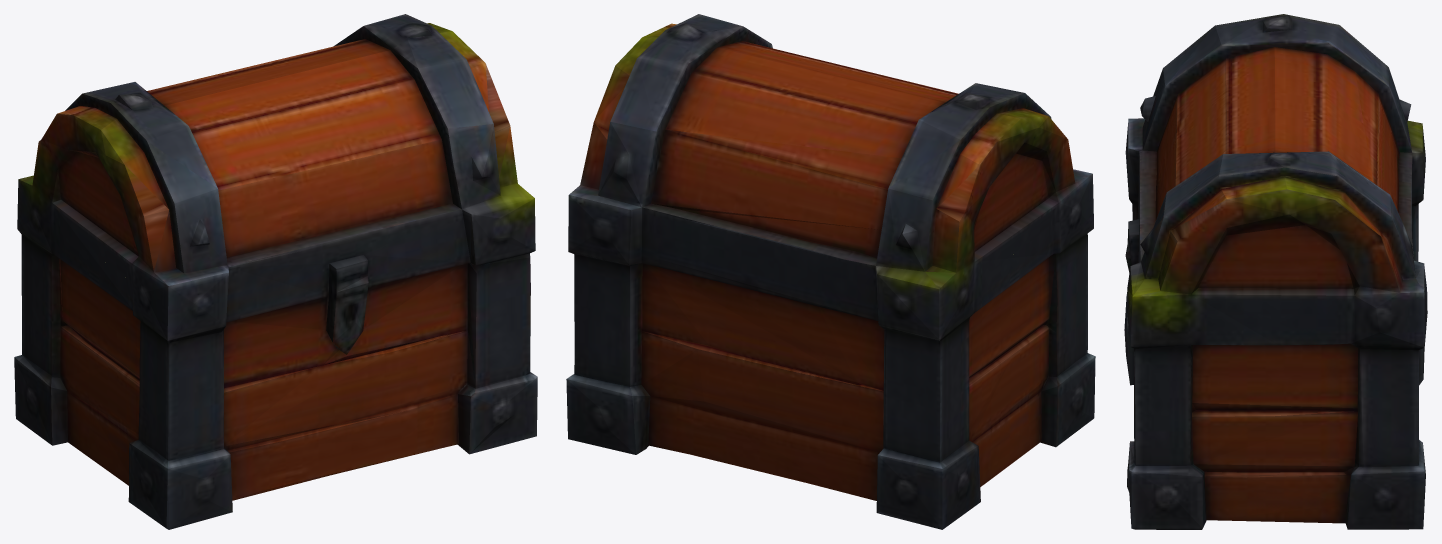
The model's file is d_coffre_commun.glb.
The picture shows the model from 3 angles, left to right: view 1: azimuth 30°, elevation 25°; view 2: azimuth 150°, elevation 25°; view 3: azimuth 270°, elevation 25°; orthographic projection. The views are drawn at different scales.
Visible parts, largest first — view 1: caisse, couvercle; view 2: caisse, couvercle; view 3: couvercle, caisse.
Part boxes in pixels (x1,y1,x2,y2): caisse: (14,199,537,529); couvercle: (18,14,535,309); caisse: (566,198,1095,529); couvercle: (568,14,1093,308); couvercle: (1125,14,1427,317); caisse: (1124,154,1427,529).
Bounding box in the file's own units: 0.9995 × 0.9271 × 0.715.
Materials: 2 (1 with a texture image).
